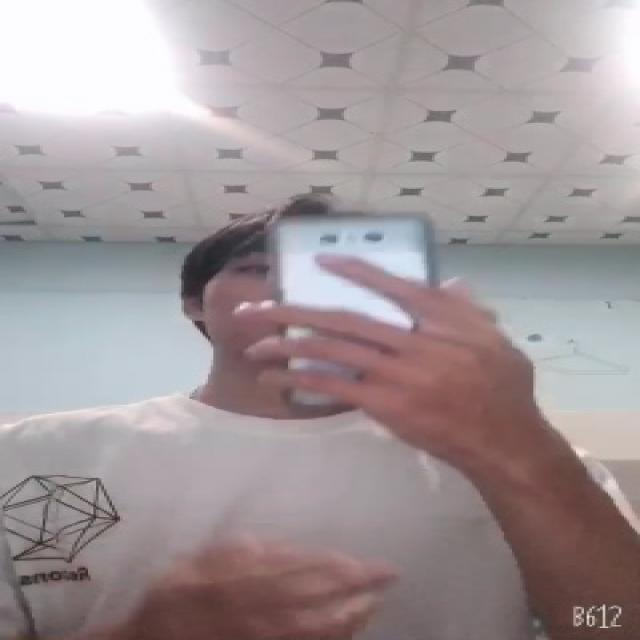Phone: (272, 209, 439, 413)
